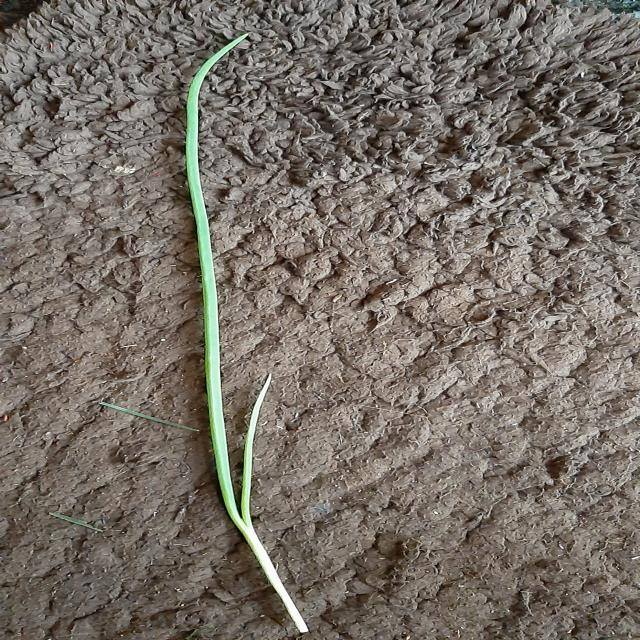onion: (184, 34, 271, 540), (276, 588, 306, 632)
